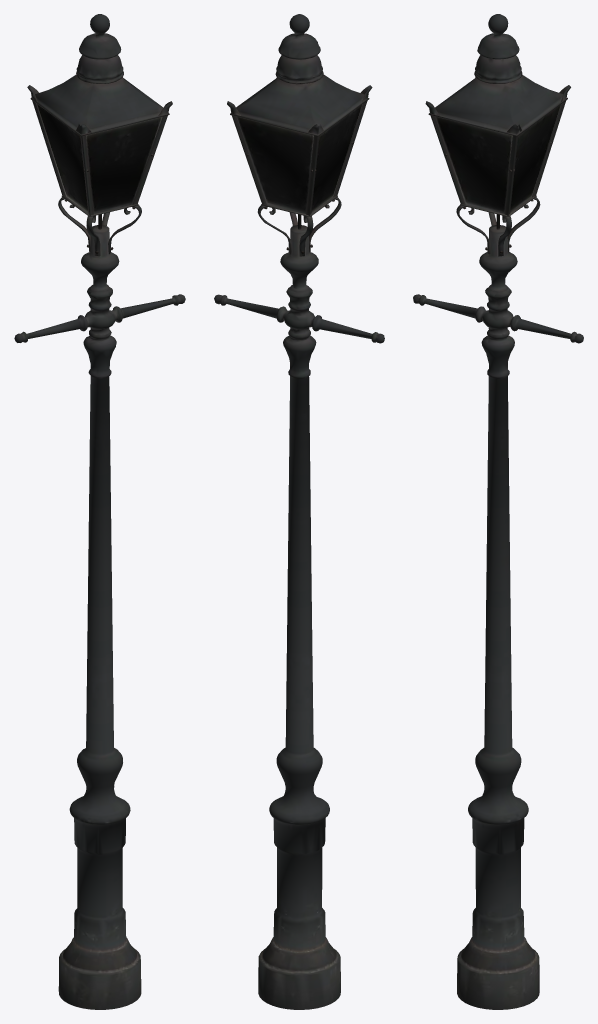
The model's file is street_lamp_01.glb.
The picture shows the model from 3 angles, left to right: view 1: azimuth 30°, elevation 25°; view 2: azimuth 150°, elevation 25°; view 3: azimuth 330°, elevation 25°; orthographic projection.
Visible parts, largest first — view 1: street_lamp_01; view 2: street_lamp_01; view 3: street_lamp_01.
Boxes of the visible parts, x1=… form: street_lamp_01: x1=14, y1=14, x2=185, y2=1009; street_lamp_01: x1=214, y1=14, x2=384, y2=1009; street_lamp_01: x1=413, y1=14, x2=583, y2=1009.
Size of the model in its own units: 0.7034 by 3.87 by 0.3857.
2 materials, 2 textured.
